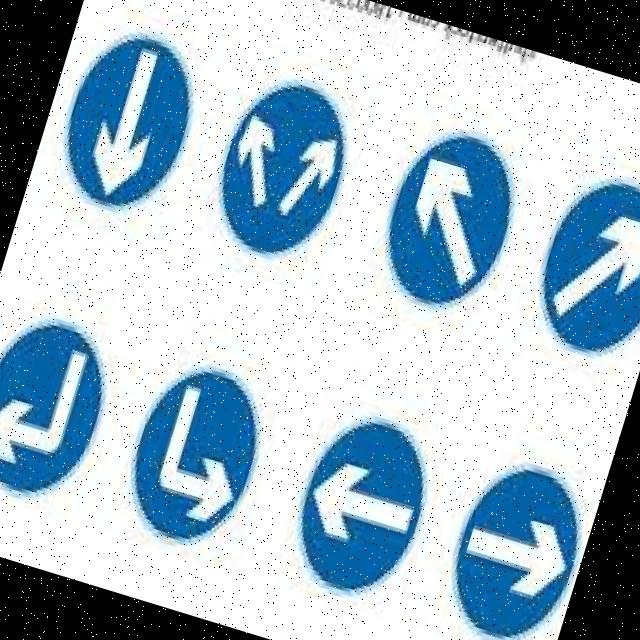compulsory_keep_right: (352, 100, 542, 337)
